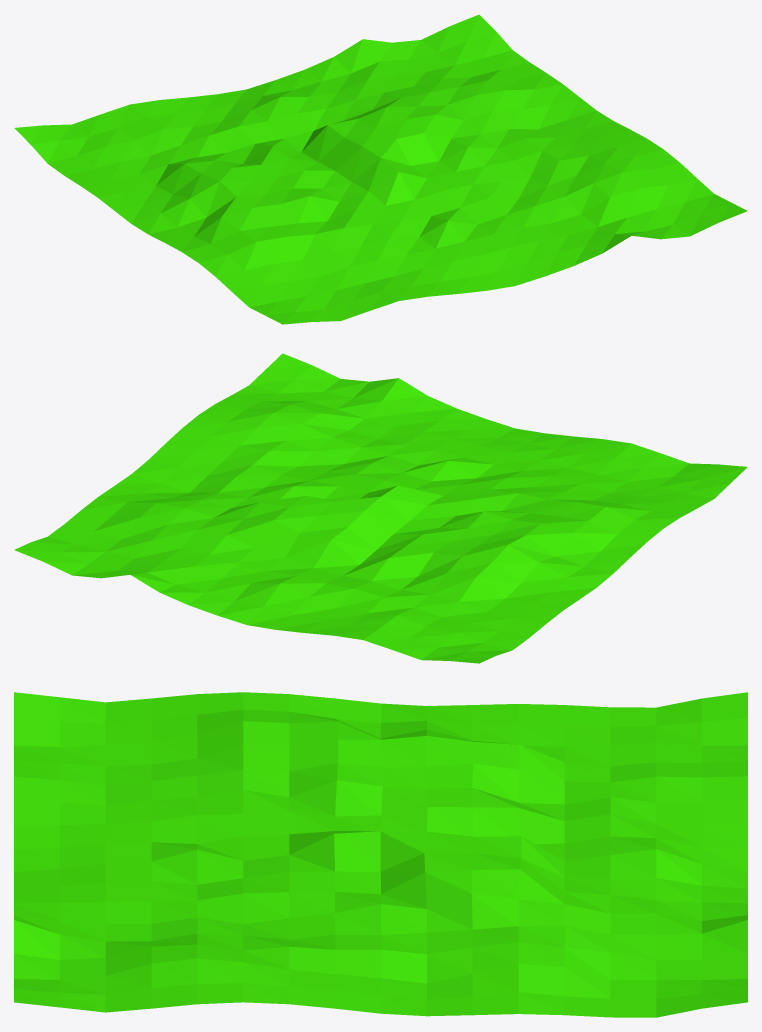
File: groundOne.fbx
3 renders of one model, top to bottom at view 1: azimuth 30°, elevation 25°; view 2: azimuth 150°, elevation 25°; view 3: azimuth 270°, elevation 25°, orthographic. The views are drawn at different scales.
Visible parts, largest first — view 1: Plane.004; view 2: Plane.004; view 3: Plane.004.
Part boxes in pixels (x1,y1,x2,y2): Plane.004: [14, 14, 747, 324]; Plane.004: [14, 353, 747, 663]; Plane.004: [14, 692, 747, 1017].
Bounding box in the file's own units: 2000 × 123 × 2000.
